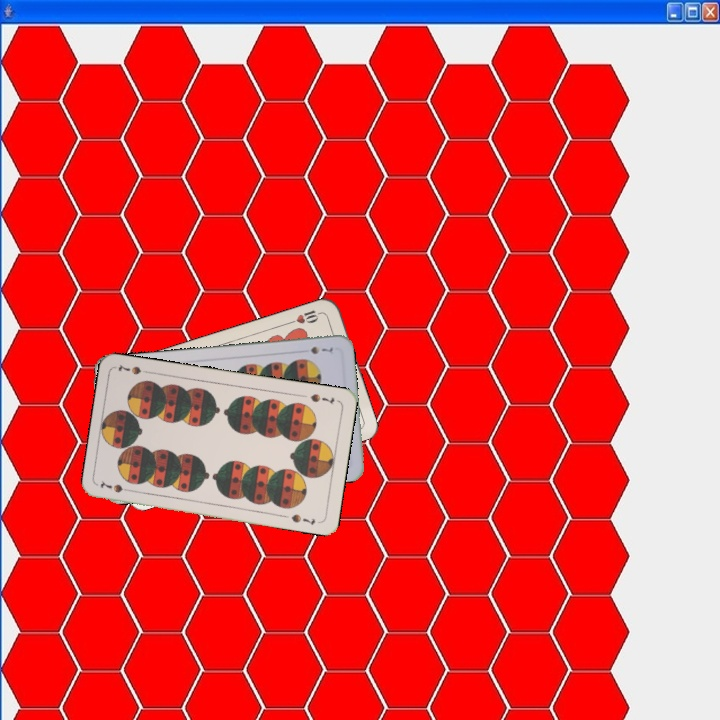H10: (286, 306, 325, 326)
S7: (96, 477, 136, 495), (306, 390, 337, 407), (307, 342, 336, 357)
